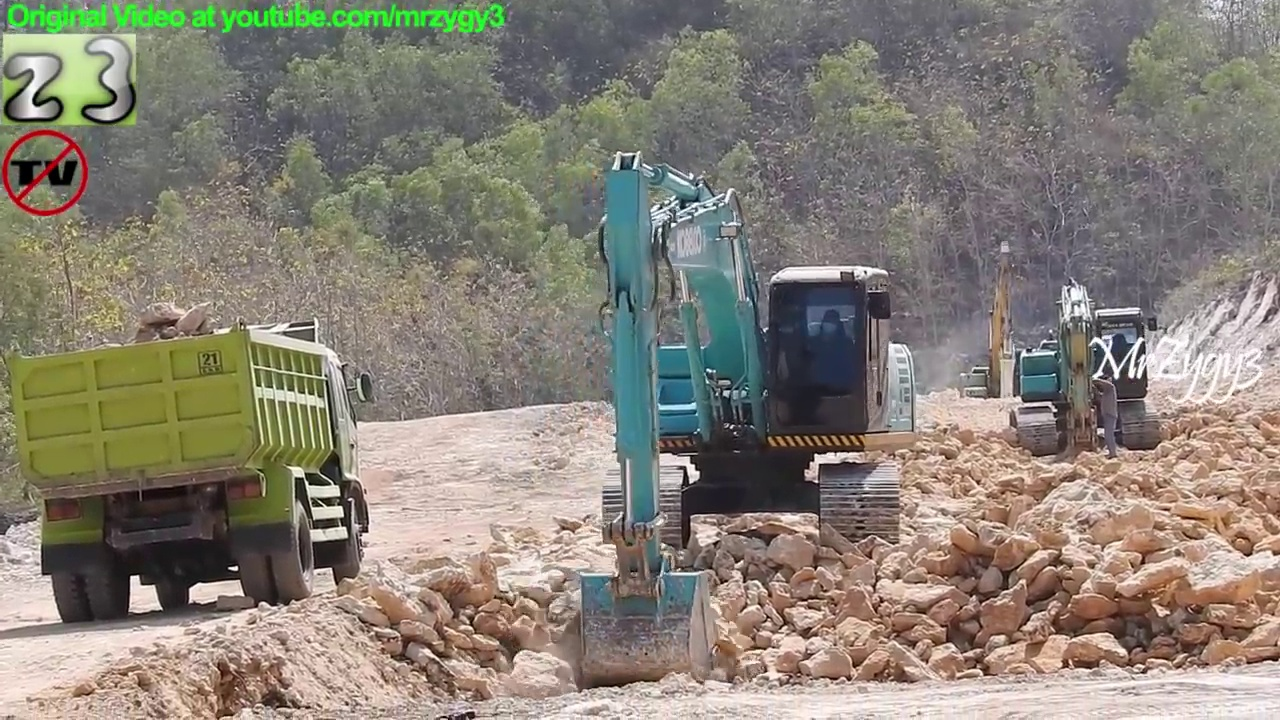excavator: (569, 141, 926, 693), (955, 236, 1062, 417)
excavator breaker: (1000, 265, 1171, 475)
truck: (1, 310, 382, 628)
worker: (1079, 368, 1133, 465)
